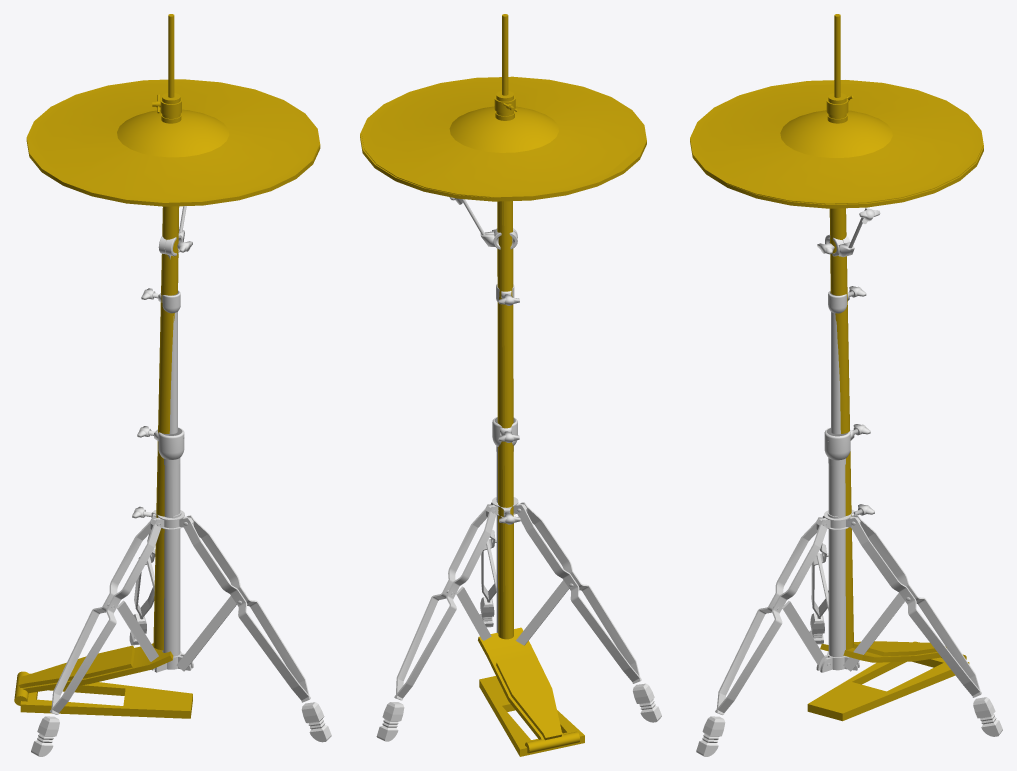
File: hi-hat.fbx
The picture shows the model from 3 angles, left to right: view 1: azimuth 30°, elevation 25°; view 2: azimuth 150°, elevation 25°; view 3: azimuth 270°, elevation 25°; orthographic projection. The views are drawn at different scales.
Parts seen in each view (by area): view 1: Component#13_001, Cymabl Stand#1_001, Group_205, Group_214, Group_206, Group_213, Group_230, pata de goma_035, pata de goma_031, Group_224; view 2: Component#13_001, Group_213, Group_210, Group_214, Group_209, Cymabl Stand#1_001, Group_224, pata de goma_033, pata de goma_035, Group_217; view 3: Component#13_001, Cymabl Stand#1_001, Group_209, Group_206, Group_210, Group_205, Group_217, pata de goma_031, Group_230, pata de goma_033.
Boxes of the visible parts, bbox=[...] form: Component#13_001: bbox=[14, 14, 320, 718]; Cymabl Stand#1_001: bbox=[151, 234, 184, 669]; Group_205: bbox=[180, 517, 310, 700]; Group_214: bbox=[49, 519, 163, 714]; Group_206: bbox=[186, 515, 310, 702]; Group_213: bbox=[51, 516, 156, 714]; Group_230: bbox=[176, 592, 245, 671]; pata de goma_035: bbox=[31, 716, 59, 756]; pata de goma_031: bbox=[301, 702, 331, 742]; Group_224: bbox=[116, 600, 158, 661]; Component#13_001: bbox=[360, 14, 646, 756]; Group_213: bbox=[514, 504, 641, 681]; Group_210: bbox=[394, 506, 498, 700]; Group_214: bbox=[520, 502, 640, 683]; Group_209: bbox=[395, 504, 491, 700]; Cymabl Stand#1_001: bbox=[492, 228, 518, 633]; Group_224: bbox=[516, 577, 577, 645]; pata de goma_033: bbox=[376, 702, 404, 741]; pata de goma_035: bbox=[633, 683, 661, 722]; Group_217: bbox=[456, 586, 491, 640]; Component#13_001: bbox=[690, 14, 983, 721]; Cymabl Stand#1_001: bbox=[824, 234, 855, 670]; Group_209: bbox=[847, 517, 981, 695]; Group_206: bbox=[715, 519, 829, 714]; Group_210: bbox=[853, 515, 981, 697]; Group_205: bbox=[716, 517, 822, 714]; Group_217: bbox=[843, 593, 904, 671]; pata de goma_031: bbox=[696, 716, 725, 756]; Group_230: bbox=[782, 601, 824, 664]; pata de goma_033: bbox=[973, 697, 1002, 736].
Size of the model in its own units: 2.85 by 6.83 by 2.78.
